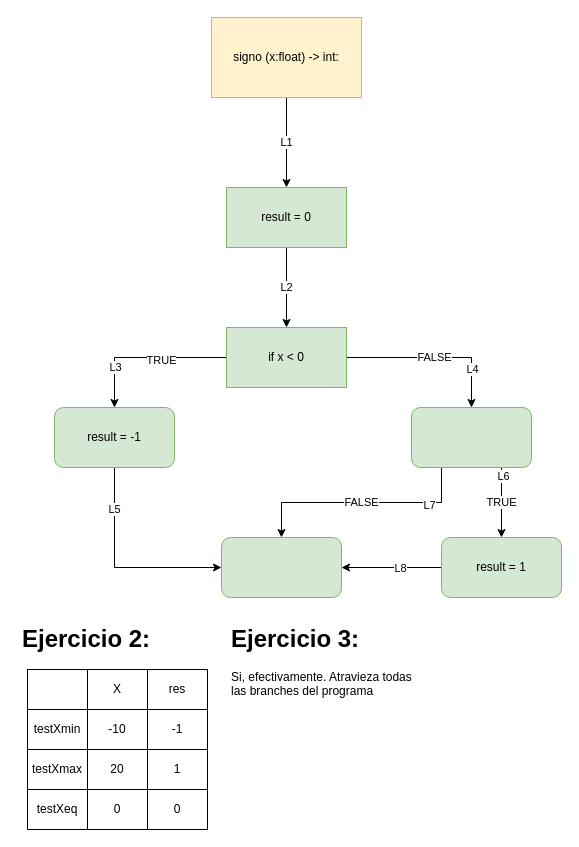
This 579x847 diagram has some shape labels left out. Each missing label, with the box of its shape:
elif ( x > 0 ): (410, 406, 532, 468)
return result: (220, 536, 342, 598)
